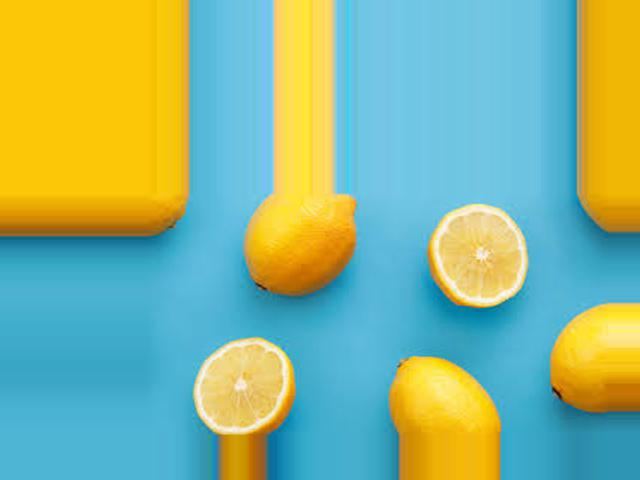lemon: (540, 295, 610, 400)
